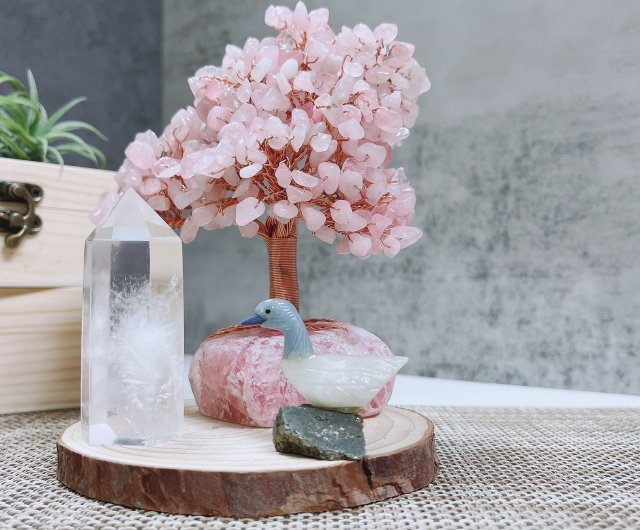Rose_Quartz: (173, 13, 430, 232)
